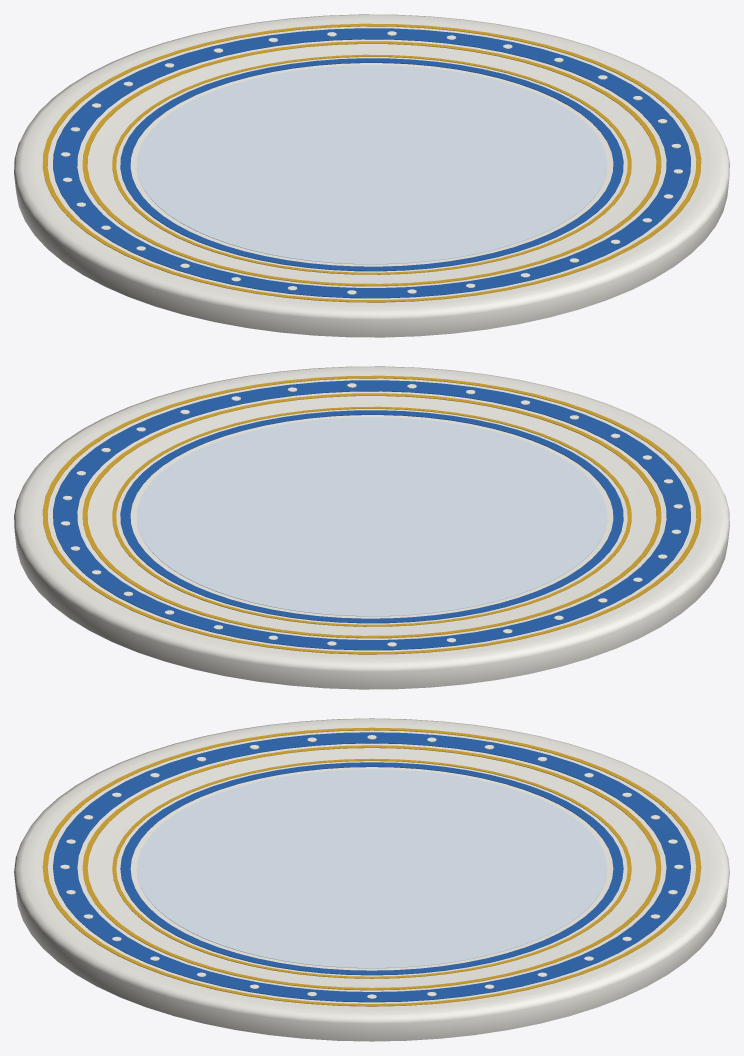
The model's file is plate.glb.
The picture shows the model from 3 angles, top to bottom: view 1: azimuth 30°, elevation 25°; view 2: azimuth 150°, elevation 25°; view 3: azimuth 270°, elevation 25°; orthographic projection.
Parts seen in each view (by area): view 1: Plate; view 2: Plate; view 3: Plate.
Part boxes in pixels (left/top/right/bottom): Plate: left=14, top=14, right=729, bottom=337; Plate: left=14, top=366, right=729, bottom=689; Plate: left=14, top=718, right=729, bottom=1041.
Size of the model in its own units: 7 by 0.403 by 7.
